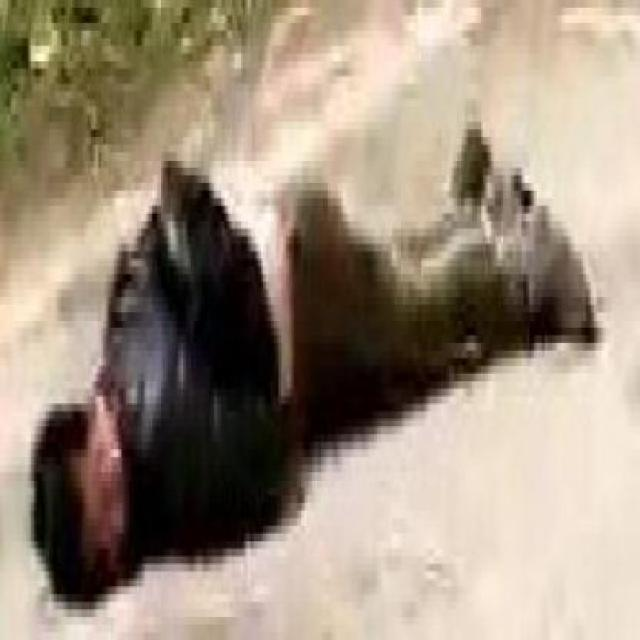fall: (26, 53, 603, 564)
